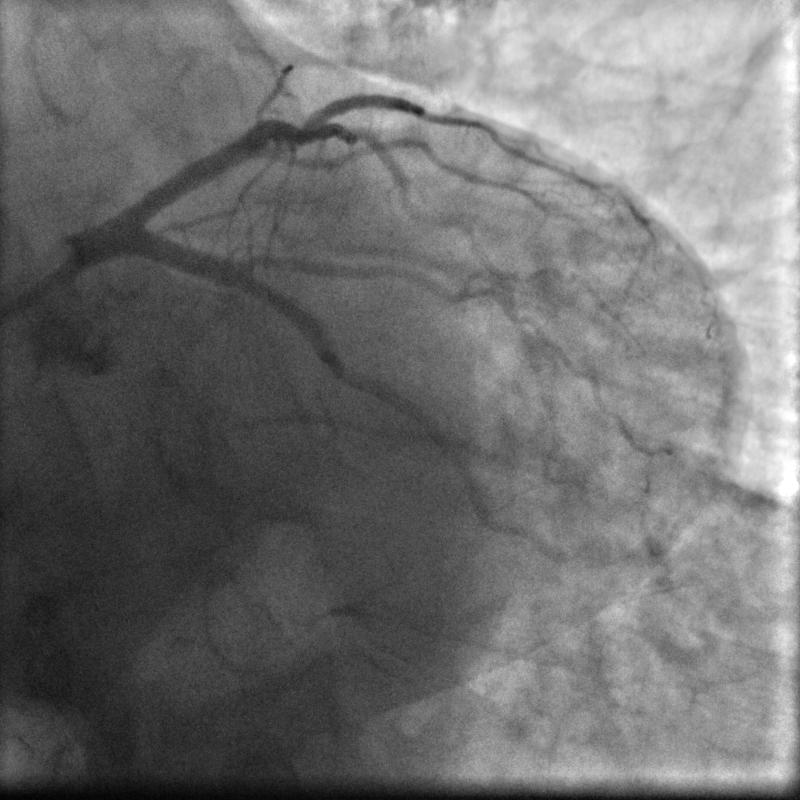Stenosis: (334, 351, 374, 394)
